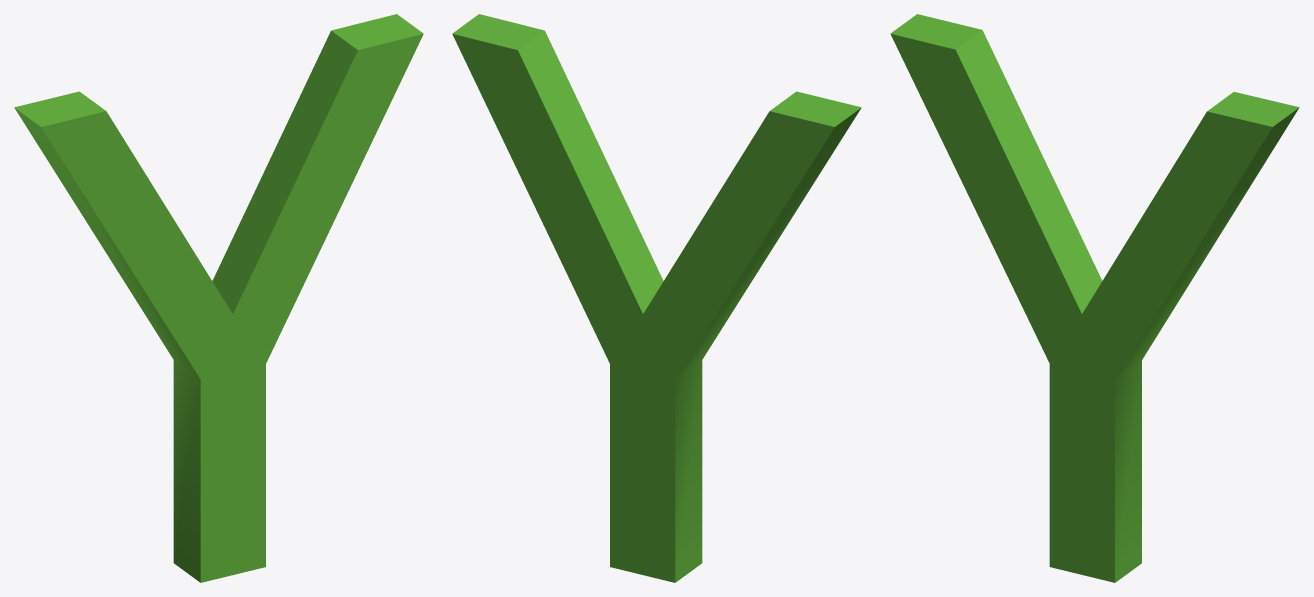
The model's file is letras.obj.
The picture shows the model from 3 angles, left to right: view 1: azimuth 30°, elevation 25°; view 2: azimuth 150°, elevation 25°; view 3: azimuth 330°, elevation 25°; orthographic projection.
Visible parts, largest first — view 1: Y; view 2: Y; view 3: Y.
Part boxes in pixels (<box>): Y: <box>14,14,423,582</box>; Y: <box>452,14,861,582</box>; Y: <box>890,14,1299,582</box>.
Bounding box in the file's own units: 0.82 × 1.01 × 0.1.
